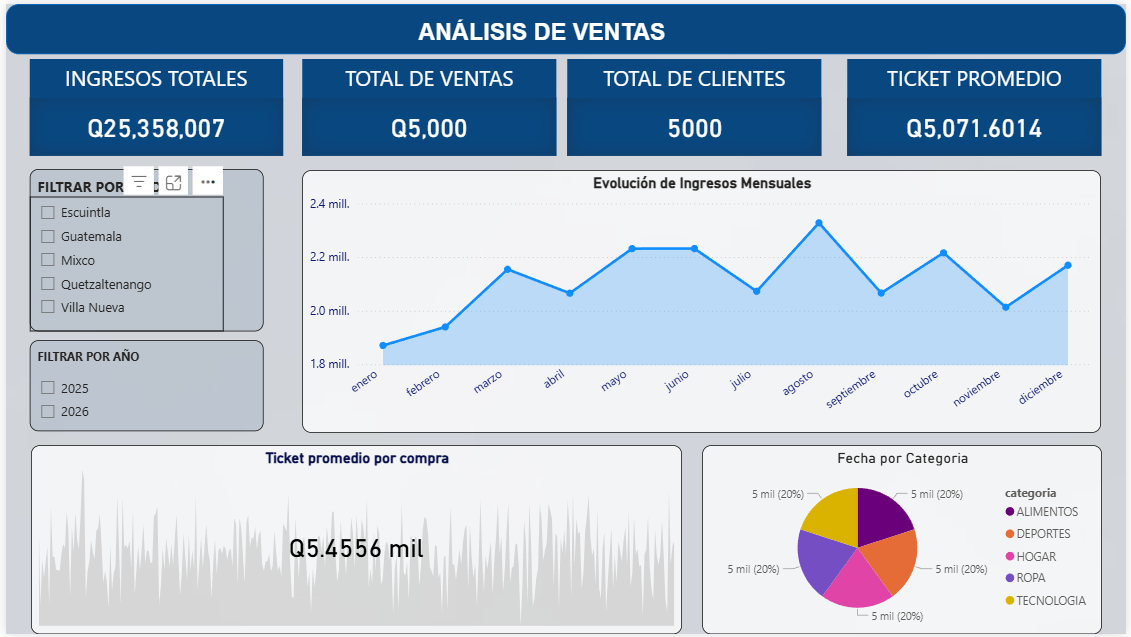

What the dashboard file says about the page in this screenshot:
{"tool":"powerbi","page":{"name":"Página 1","canvas":[1280,720],"ordinal":0},"visuals":[{"type":"shape","box":[0,0,1280,57.5],"z":0},{"type":"textbox","box":[358.7,13.3,508,44],"z":1000},{"type":"textbox","title":"INGRESOS TOTALES","box":[27.3,63.3,289.3,110.7],"z":2000},{"type":"card","title":"INGRESOS TOTALES","fields":{"Values":["Clientes.Ingresos Totales"]},"box":[27.3,107.3,289.3,66.7],"z":3000},{"type":"textbox","title":"INGRESOS TOTALES","box":[338,63.3,290.7,110.7],"z":4000},{"type":"textbox","title":"INGRESOS TOTALES","box":[642,63.3,290.7,110.7],"z":5000},{"type":"textbox","title":"INGRESOS TOTALES","box":[962,63.3,290.7,110.7],"z":6000},{"type":"card","title":"INGRESOS TOTALES","fields":{"Values":["Clientes.Total Ventas"]},"box":[338,107.3,290.7,66.7],"z":7000},{"type":"card","title":"INGRESOS TOTALES","fields":{"Values":["Clientes.Total Clientes"]},"box":[642,107.3,290.7,66.7],"z":8000},{"type":"card","title":"INGRESOS TOTALES","fields":{"Values":["Clientes.Ticket Promedio"]},"box":[962,107.3,290.7,66.7],"z":9000},{"type":"textbox","box":[27.1,188.6,267.1,185.7],"z":10000},{"type":"slicer","fields":{"Values":["Clientes.ciudad"]},"box":[27.5,220,221.2,153.8],"z":11000},{"type":"textbox","box":[27.1,384.3,267.1,104.3],"z":12000},{"type":"slicer","fields":{"Values":["Ventas.fecha_venta.Variación.Jerarquía de fechas.Año"]},"box":[27.5,420,221.2,68.8],"z":13000},{"type":"lineChart","title":"Evolución de Ingresos Mensuales","fields":{"Category":["Ventas.fecha_venta.Variación.Jerarquía de fechas.Mes"],"Y":["Clientes.Ingresos Totales"]},"box":[338.6,190,912.9,300],"z":14000},{"type":"pieChart","title":"Fecha por Categoria","fields":{"Category":["Productos.categoria"],"Y":["CountNonNull(Ventas.fecha_venta)"]},"box":[795.7,504.3,457.1,215.7],"z":15000},{"type":"kpi","title":"Ticket promedio por compra","fields":{"Indicator":["Clientes.Ticket Promedio"],"TrendLine":["Ventas.fecha_venta"]},"box":[28.6,504.3,744.3,215.7],"z":15001}]}

Visuals, with their boxes in screenshot pixels (x1, y1, x2, y2), scaled from the page's 1280x720 canvas onto the 1131x637 screenshot:
shape: 0/0/1130/51
textbox: 317/12/766/51
"INGRESOS TOTALES" textbox: 24/56/280/154
"INGRESOS TOTALES" card: 24/95/280/154
"INGRESOS TOTALES" textbox: 299/56/556/154
"INGRESOS TOTALES" textbox: 567/56/824/154
"INGRESOS TOTALES" textbox: 850/56/1107/154
"INGRESOS TOTALES" card: 299/95/556/154
"INGRESOS TOTALES" card: 567/95/824/154
"INGRESOS TOTALES" card: 850/95/1107/154
textbox: 24/167/260/331
slicer - Clientes.ciudad: 24/195/220/331
textbox: 24/340/260/432
slicer - Ventas.fecha_venta.Variación.Jerarquía de fechas.Año: 24/372/220/432
"Evolución de Ingresos Mensuales" lineChart: 299/168/1106/434
"Fecha por Categoria" pieChart: 703/446/1107/636
"Ticket promedio por compra" kpi: 25/446/683/636
